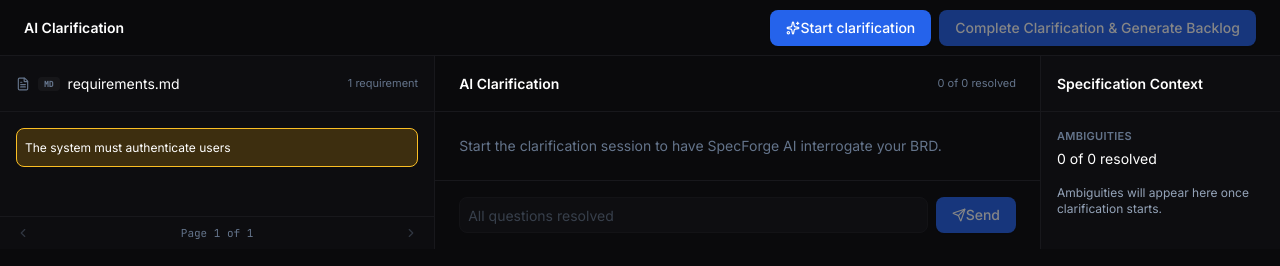
Test: ClarifyPage — starting a session › surfaces an AI outage as an error toast
Click the button "Start clarification".
click(851, 28)  # box top-left (770, 10), bottom-right (931, 46)
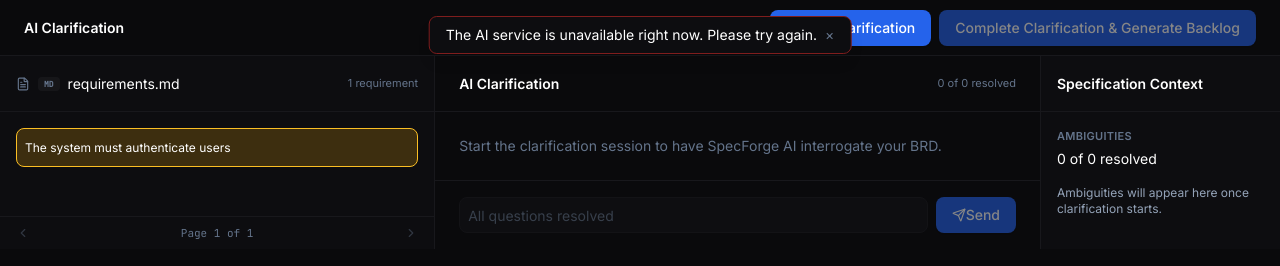
Result: the text "The AI service is unavailable right now. Please try again." is shown at top-left (446, 25), bottom-right (817, 45)
